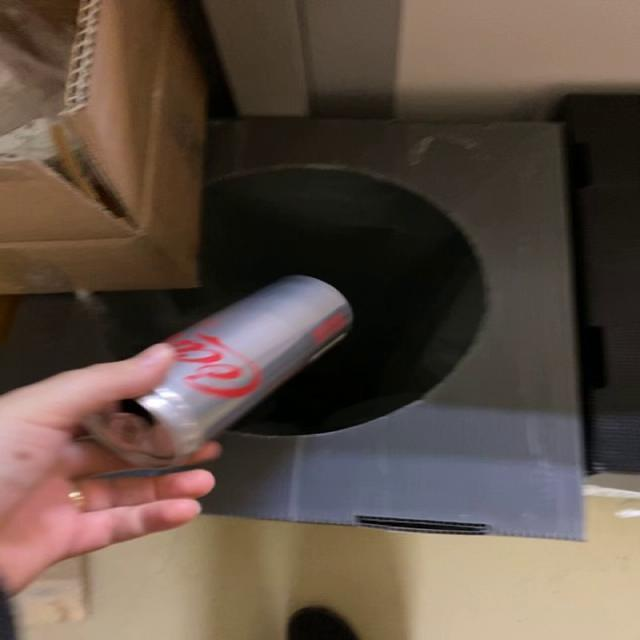Bin: (3, 118, 580, 540)
Metal: (91, 276, 353, 468)
